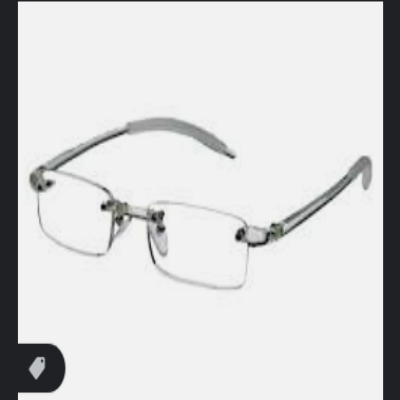glasses: (30, 113, 381, 295)
